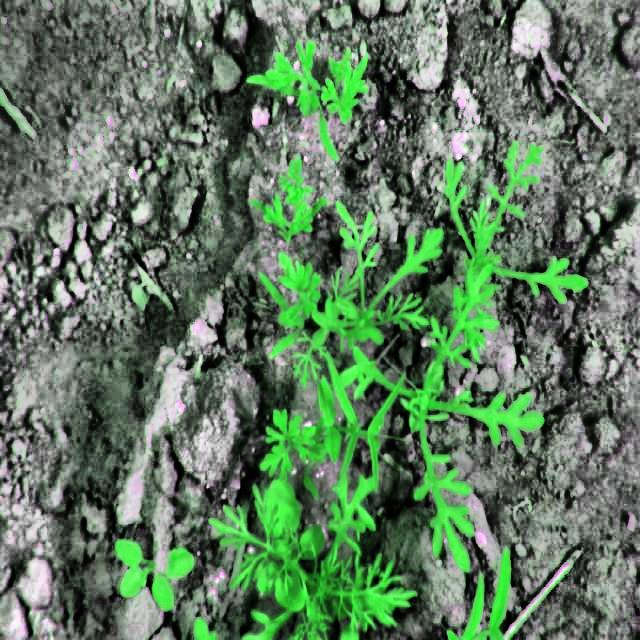Weeds: (246, 477, 324, 610), (114, 532, 195, 612)
undefined: (206, 132, 588, 638), (248, 38, 370, 162)
